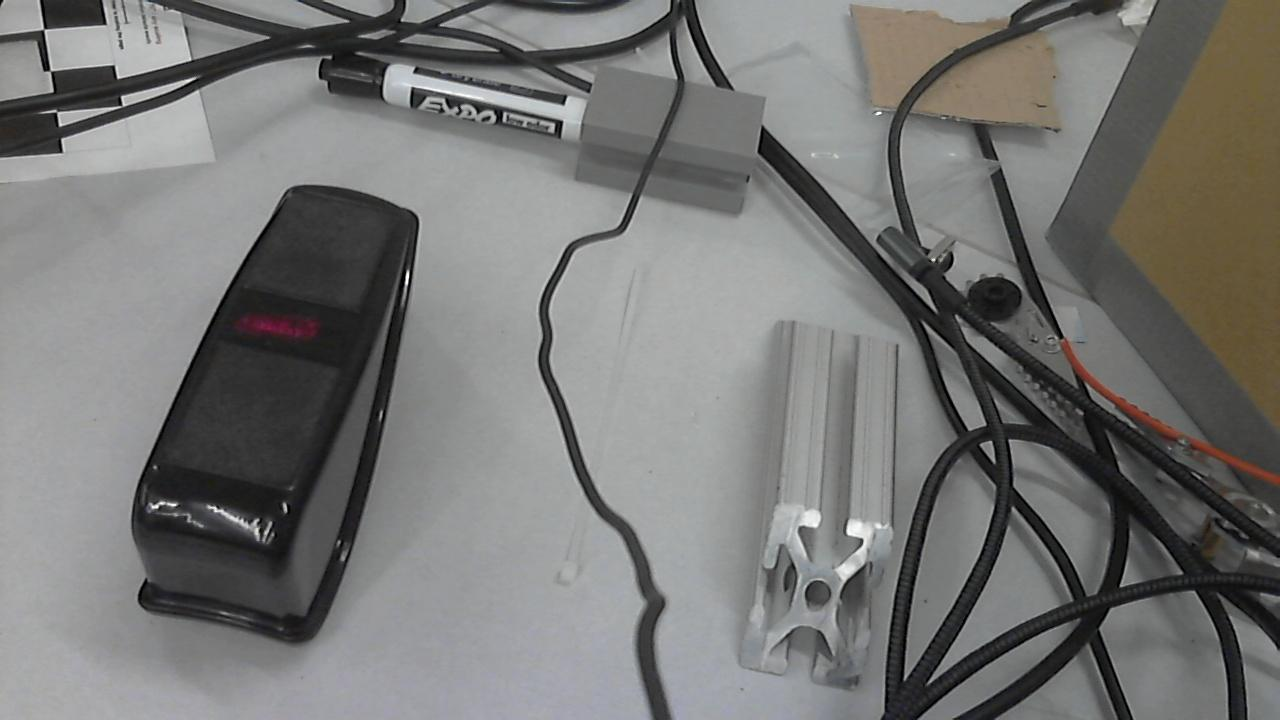Object desktop tape dispenser - Material plastic - Pdfname 8pMd29OsIRjD: (228, 295, 354, 352)
